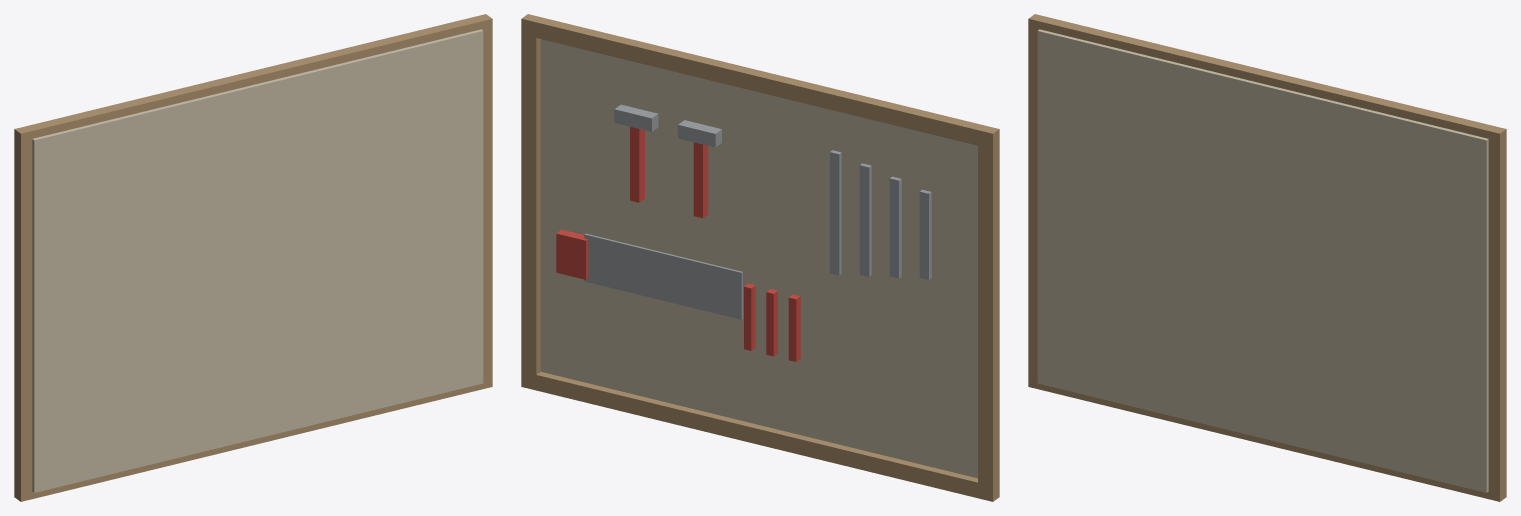
The model's file is standin_tool_pegboard.glb.
The picture shows the model from 3 angles, left to right: view 1: azimuth 30°, elevation 25°; view 2: azimuth 150°, elevation 25°; view 3: azimuth 330°, elevation 25°; orthographic projection.
Parts seen in each view (by area): view 1: standin_tool_pegboard; view 2: standin_tool_pegboard; view 3: standin_tool_pegboard.
Part boxes in pixels (box(x1,y1,x2,y2)): standin_tool_pegboard: box(14, 14, 492, 501); standin_tool_pegboard: box(521, 14, 999, 501); standin_tool_pegboard: box(1028, 14, 1506, 501).
Size of the model in its own units: 1.26 by 0.94 by 0.06.
